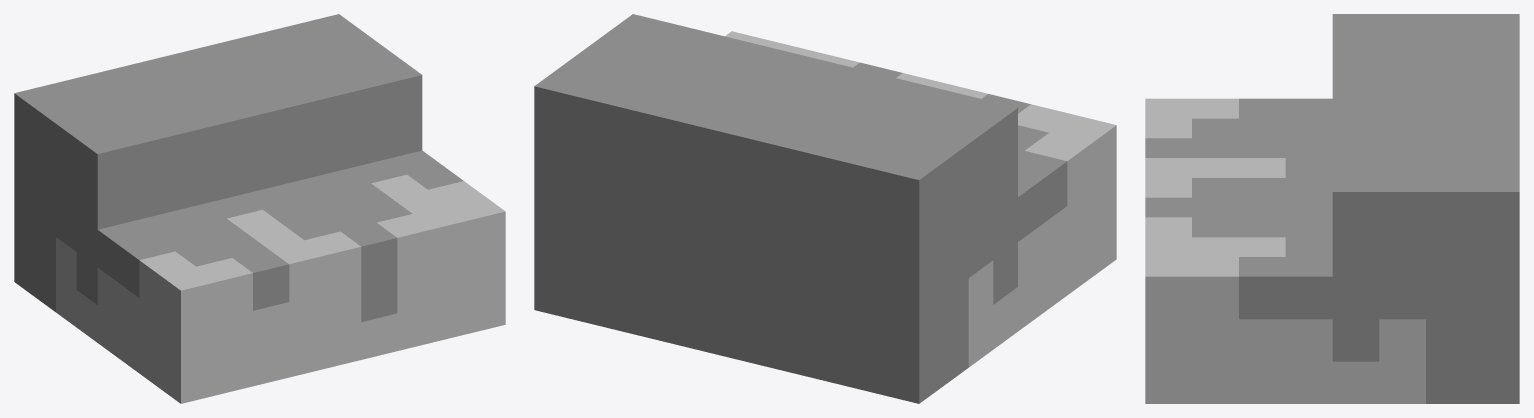
Rendered from ConstructionMaterials-84.obj.
The picture shows the model from 3 angles, left to right: view 1: azimuth 30°, elevation 25°; view 2: azimuth 150°, elevation 25°; view 3: azimuth 270°, elevation 25°; orthographic projection. The views are drawn at different scales.
Bounding box in the file's own units: 0.9 × 0.5 × 0.8.
1 material, 1 textured.
